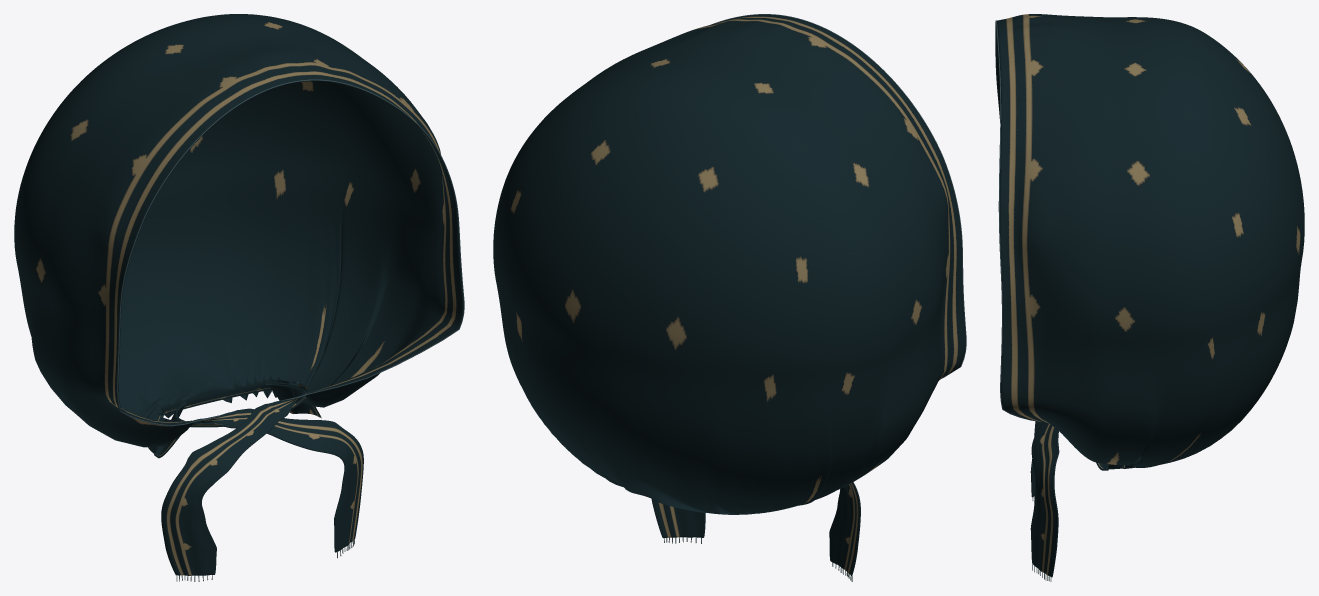
File: Masculine-sidepart-sweatshirt-pashmina250-headgear.glb
3 views of the same model, side by side, from view 1: azimuth 30°, elevation 25°; view 2: azimuth 150°, elevation 25°; view 3: azimuth 270°, elevation 25° (orthographic). The views are drawn at different scales.
Visible parts, largest first — view 1: 226 headgear / Headwear / continuous woven pashmina239, 226 headgear / Headwear / face edge239; view 2: 226 headgear / Headwear / continuous woven pashmina239, 226 headgear / Headwear / face edge239; view 3: 226 headgear / Headwear / continuous woven pashmina239, 226 headgear / Headwear / face edge239.
Boxes of the visible parts, bbox=[...] form: 226 headgear / Headwear / continuous woven pashmina239: bbox=[14, 14, 463, 575]; 226 headgear / Headwear / face edge239: bbox=[117, 79, 464, 426]; 226 headgear / Headwear / continuous woven pashmina239: bbox=[493, 14, 965, 575]; 226 headgear / Headwear / face edge239: bbox=[710, 14, 966, 379]; 226 headgear / Headwear / continuous woven pashmina239: bbox=[995, 14, 1304, 577]; 226 headgear / Headwear / face edge239: bbox=[995, 20, 1036, 421].
Size of the model in its own units: 1.07 by 1.39 by 0.7681.
3 materials, 1 textured.
